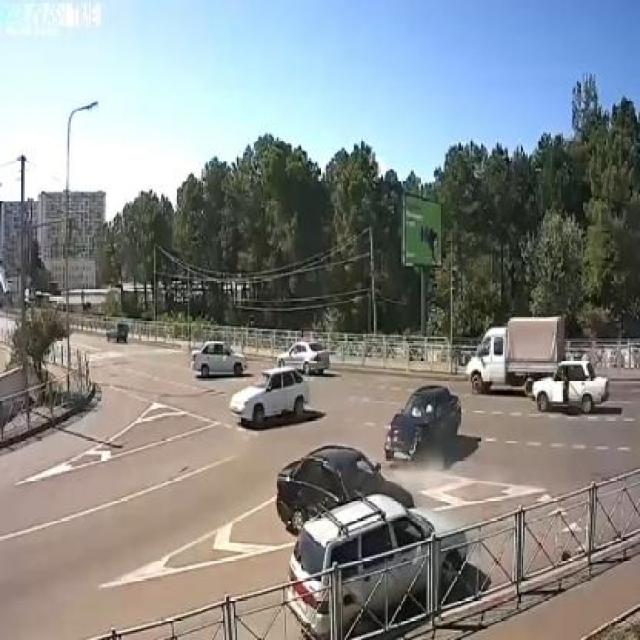accident: (262, 450, 438, 622), (388, 372, 460, 470)
